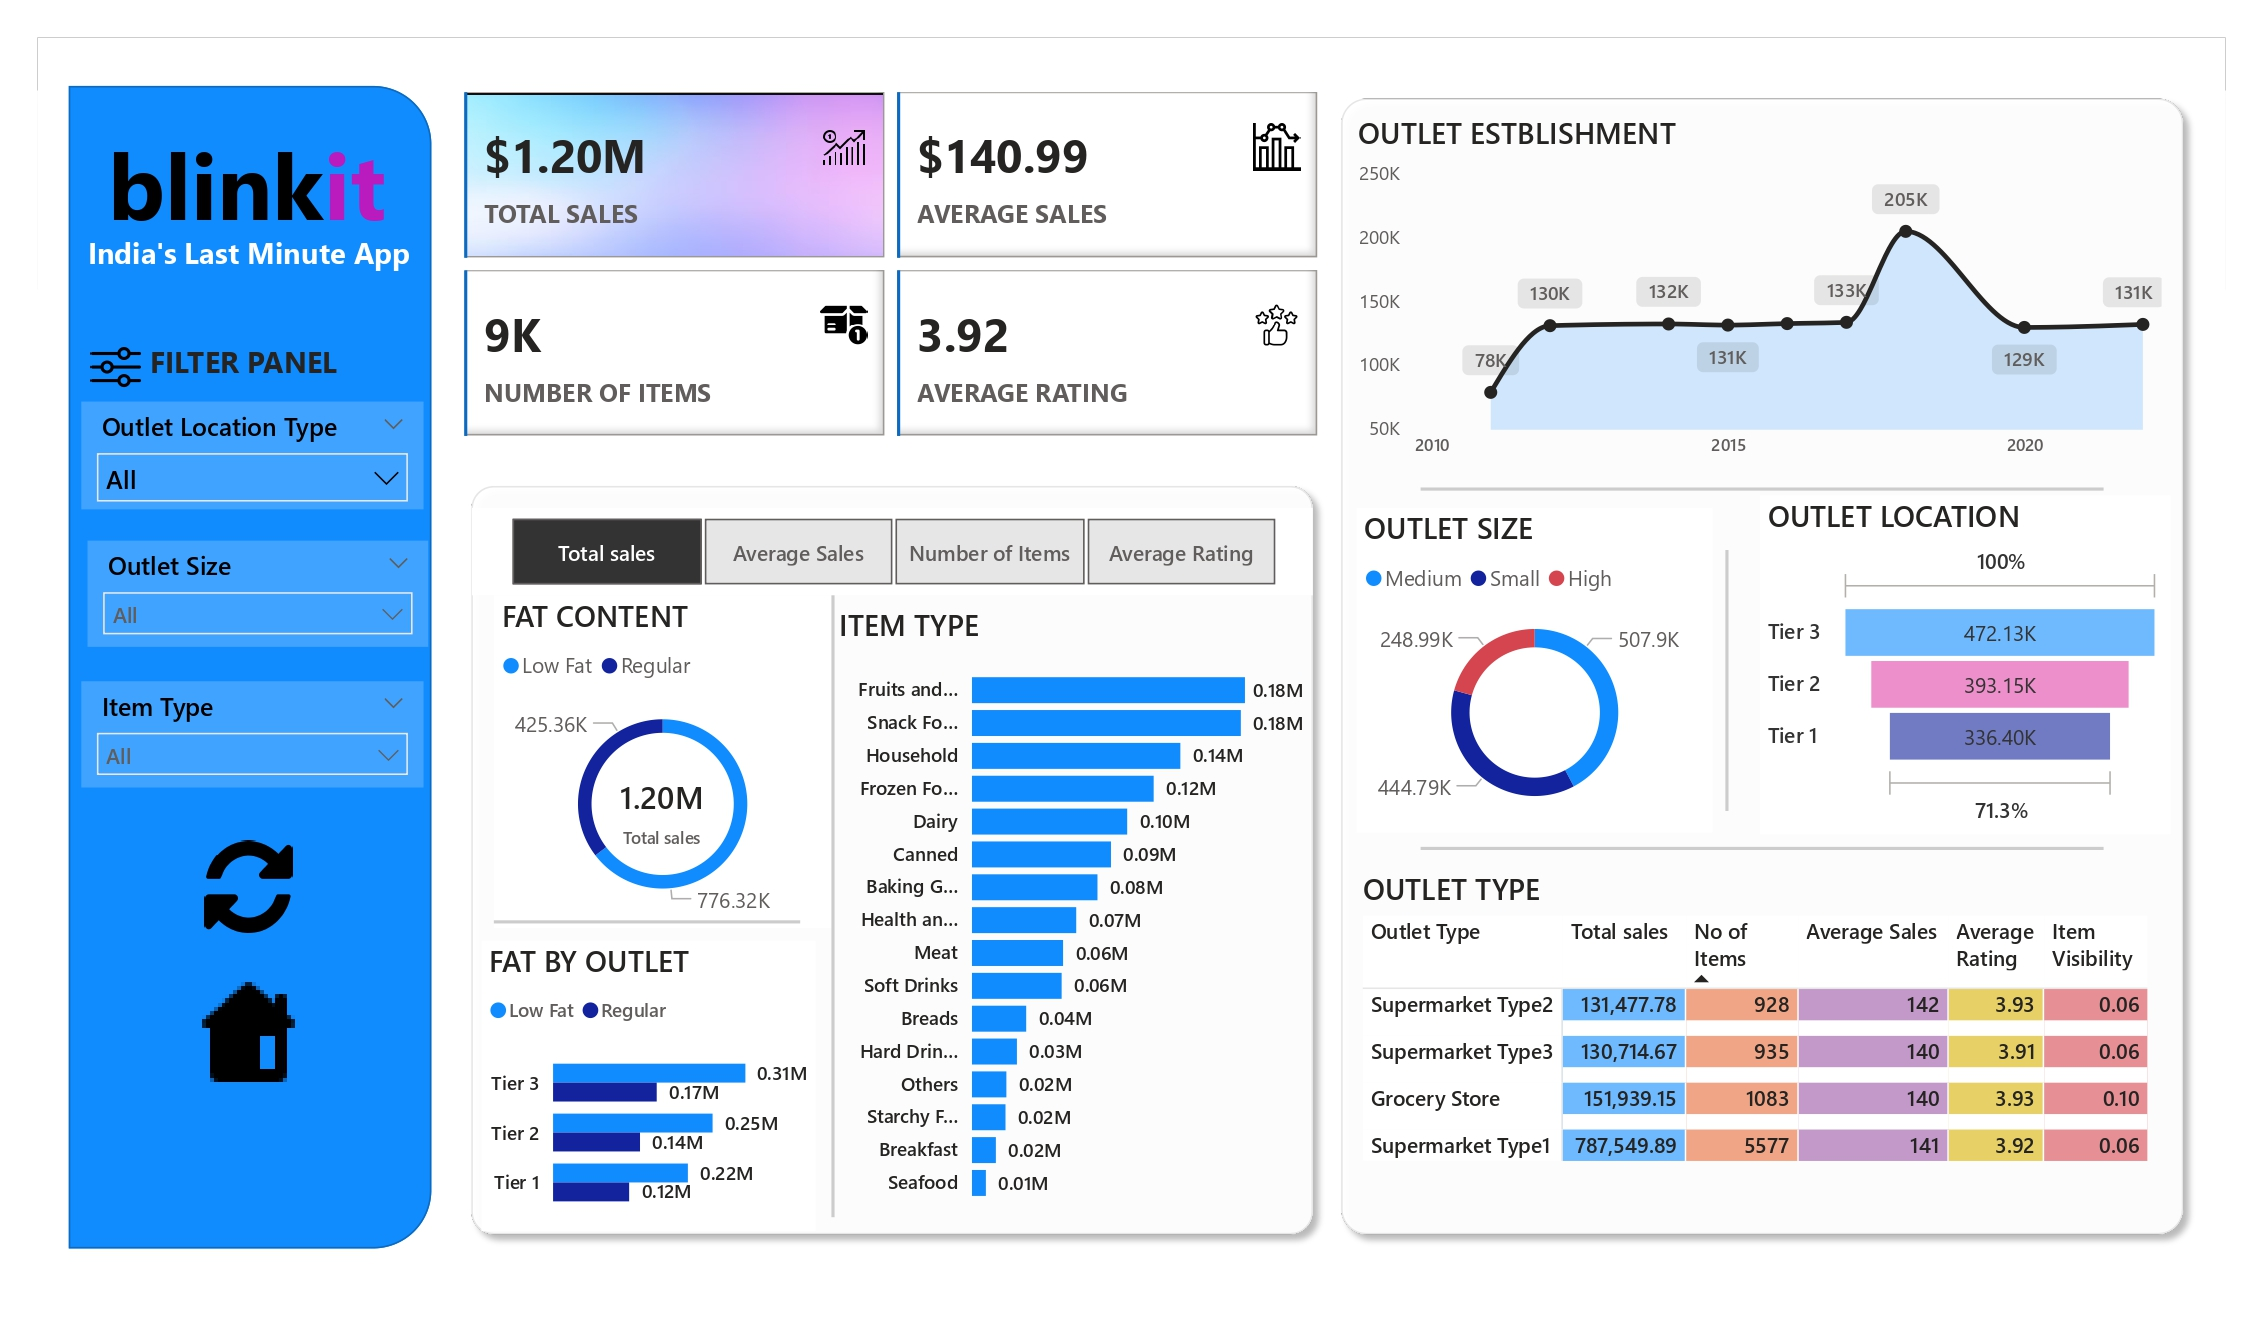

Layout of this report page (visuals, bound fields, positions):
{"tool":"powerbi","page":{"name":"Page 1","canvas":[1400,800],"ordinal":0},"visuals":[{"type":"shape","box":[19.8,30.6,232.1,744.8],"z":0},{"type":"textbox","box":[39.6,48.6,196.1,91.8],"z":1000},{"type":"textbox","box":[26.6,119.6,241.5,39.9],"z":2000},{"type":"cardVisual","fields":{"Data":["BlinkIT Grocery Data.Total sales","BlinkIT Grocery Data.Average Sales","BlinkIT Grocery Data.Number of Items","BlinkIT Grocery Data.Average Rating"]},"box":[268.3,30,556.7,230],"z":3000},{"type":"shape","box":[268.3,278.3,556.7,496.7],"z":4000},{"type":"donutChart","title":"FAT CONTENT","fields":{"Y":["BlinkIT Grocery Data.Total sales"],"Category":["BlinkIT Grocery Data.Item Fat Content"]},"box":[291.7,356.7,216.7,213.3],"z":5000},{"type":"slicer","fields":{"Values":["Metrics.Metrics"]},"box":[278.3,301.2,537.3,55.4],"z":6000},{"type":"card","fields":{"Values":["BlinkIT Grocery Data.Total sales"]},"box":[351.7,463.3,95,63.3],"z":7000},{"type":"clusteredBarChart","title":"FAT BY OUTLET","fields":{"Y":["BlinkIT Grocery Data.Total sales"],"Category":["BlinkIT Grocery Data.Outlet Location Type"],"Series":["BlinkIT Grocery Data.Item Fat Content"]},"box":[283.5,578.2,214.9,186.1],"z":8000},{"type":"shape","box":[488.3,356.7,41.7,398.3],"z":9000},{"type":"shape","box":[291.7,526.7,196.7,78.3],"z":10000},{"type":"clusteredBarChart","title":"ITEM TYPE","fields":{"Y":["BlinkIT Grocery Data.Total sales"],"Category":["BlinkIT Grocery Data.Item Type"]},"box":[508.3,363.3,306.7,391.7],"z":11000},{"type":"shape","box":[825,30,556.7,745],"z":12000},{"type":"lineChart","title":"OUTLET ESTBLISHMENT","fields":{"Category":["BlinkIT Grocery Data.Outlet Establishment Year"],"Y":["BlinkIT Grocery Data.Total sales"]},"box":[840,48.3,525,230],"z":13000},{"type":"donutChart","title":"OUTLET SIZE","fields":{"Y":["BlinkIT Grocery Data.Total sales"],"Category":["BlinkIT Grocery Data.Outlet Size"]},"box":[844,301.3,228.2,208.2],"z":14000},{"type":"shape","box":[885,250,436.7,78.3],"z":15000},{"type":"funnel","title":"OUTLET LOCATION","fields":{"Y":["Sum(BlinkIT Grocery Data.Sales)"],"Category":["BlinkIT Grocery Data.Outlet Location Type"]},"box":[1101.7,293.3,263.3,216.7],"z":16000},{"type":"shape","box":[1060,328.3,41.7,166.7],"z":17000},{"type":"shape","box":[885,495,436.7,48.3],"z":18000},{"type":"pivotTable","title":"OUTLET TYPE","fields":{"Rows":["BlinkIT Grocery Data.Outlet Type"],"Values":["BlinkIT Grocery Data.Total sales","BlinkIT Grocery Data.Number of Items","BlinkIT Grocery Data.Average Sales","BlinkIT Grocery Data.Average Rating","Avg(BlinkIT Grocery Data.Item Visibility)"]},"box":[843.3,526.7,520,228.3],"z":19000},{"type":"slicer","fields":{"Values":["BlinkIT Grocery Data.Outlet Location Type"]},"box":[28.3,233.3,218.3,68.3],"z":20000},{"type":"slicer","fields":{"Values":["BlinkIT Grocery Data.Outlet Size"]},"box":[31.7,321.7,218.3,68.3],"z":21000},{"type":"slicer","fields":{"Values":["BlinkIT Grocery Data.Item Type"]},"box":[28.3,411.7,218.3,68.3],"z":22000},{"type":"textbox","box":[66.7,190,146.7,43.3],"z":23000},{"type":"image","box":[26.7,190,46.7,41.7],"z":24000},{"type":"image","box":[101.9,509.5,66.5,68.7],"z":25000},{"type":"image","box":[93,593.7,84.2,90.8],"z":26000}]}

Visuals, with their boxes in screenshot pixels (x1, y1, x2, y2):
shape: 68:85:431:1249
textbox: 99:113:406:257
textbox: 79:224:457:287
cardVisual - BlinkIT Grocery Data.Total sales x BlinkIT Grocery Data.Average Sales: 457:84:1327:444
shape: 457:472:1327:1248
"FAT CONTENT" donutChart: 493:595:832:928
slicer - Metrics.Metrics: 472:508:1312:595
card - BlinkIT Grocery Data.Total sales: 587:761:736:860
"FAT BY OUTLET" clusteredBarChart: 481:941:816:1232
shape: 801:595:866:1217
shape: 493:860:801:983
"ITEM TYPE" clusteredBarChart: 832:605:1311:1217
shape: 1327:84:2197:1248
"OUTLET ESTBLISHMENT" lineChart: 1350:113:2171:472
"OUTLET SIZE" donutChart: 1357:508:1713:834
shape: 1421:428:2103:550
"OUTLET LOCATION" funnel: 1759:496:2171:834
shape: 1694:550:1759:811
shape: 1421:811:2103:886
"OUTLET TYPE" pivotTable: 1355:860:2168:1217
slicer - BlinkIT Grocery Data.Outlet Location Type: 82:402:423:509
slicer - BlinkIT Grocery Data.Outlet Size: 87:540:428:647
slicer - BlinkIT Grocery Data.Item Type: 82:681:423:788
textbox: 142:334:371:402
image: 79:334:152:400
image: 197:834:301:941
image: 183:965:314:1107
